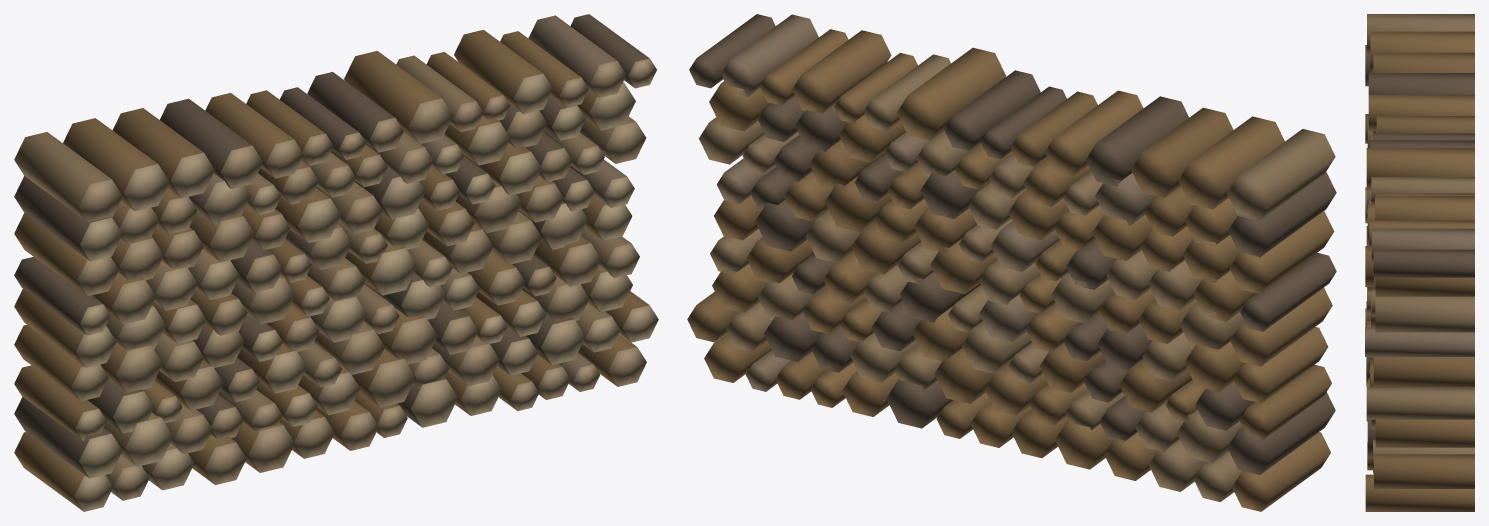
File: landscape.yard.log_pile_2.glb
The picture shows the model from 3 angles, left to right: view 1: azimuth 30°, elevation 25°; view 2: azimuth 150°, elevation 25°; view 3: azimuth 270°, elevation 25°; orthographic projection. The views are drawn at different scales.
Parts seen in each view (by area): view 1: main__paint_986, main__paint_764, main__paint_a97, main__paint_654, main__paint_865, main__paint_987, main__paint_754, main__paint_a87, main__paint_765; view 2: main__paint_764, main__paint_654, main__paint_865, main__paint_754, main__paint_765; view 3: main__paint_764, main__paint_865, main__paint_754, main__paint_654, main__paint_765.
Boxes of the visible parts, left/top/right/bottom form: main__paint_986: left=71, top=58, right=656, bottom=500; main__paint_764: left=14, top=29, right=636, bottom=511; main__paint_a97: left=75, top=83, right=635, bottom=478; main__paint_654: left=14, top=14, right=649, bottom=478; main__paint_865: left=14, top=55, right=635, bottom=500; main__paint_987: left=74, top=73, right=658, bottom=511; main__paint_754: left=14, top=90, right=649, bottom=458; main__paint_a87: left=76, top=185, right=479, bottom=490; main__paint_765: left=189, top=15, right=626, bottom=391; main__paint_764: left=704, top=29, right=1334, bottom=511; main__paint_654: left=689, top=14, right=1336, bottom=474; main__paint_865: left=699, top=54, right=1335, bottom=502; main__paint_754: left=687, top=91, right=1331, bottom=458; main__paint_765: left=716, top=14, right=1156, bottom=391; main__paint_764: left=1365, top=31, right=1474, bottom=511; main__paint_865: left=1365, top=14, right=1474, bottom=473; main__paint_754: left=1365, top=52, right=1474, bottom=488; main__paint_654: left=1365, top=45, right=1474, bottom=456; main__paint_765: left=1365, top=131, right=1474, bottom=356.
Size of the model in its own units: 2.19 by 1.19 by 0.4283.
